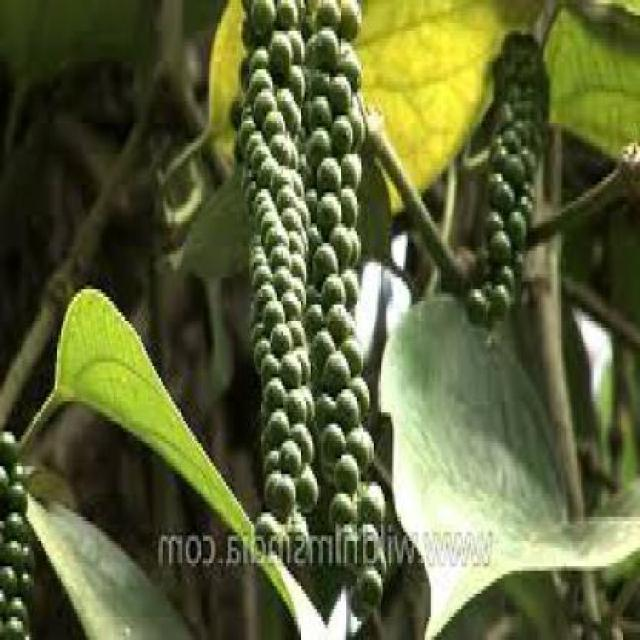UNRIPE: (251, 0, 317, 563), (317, 5, 378, 576), (471, 28, 542, 332), (2, 394, 39, 632)
